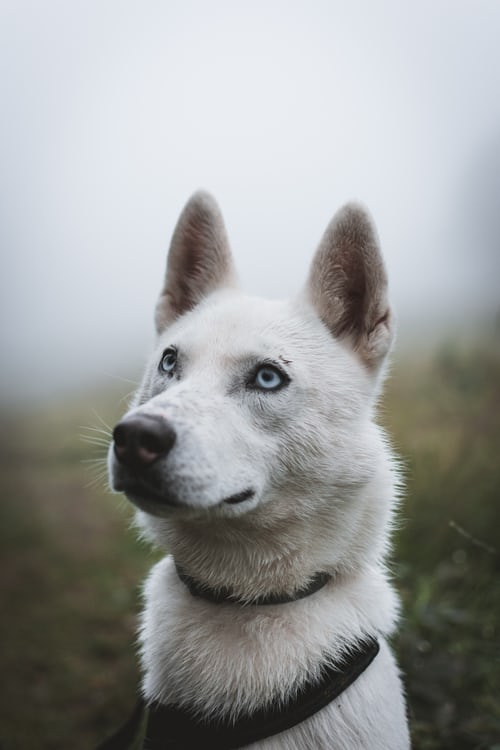husky: (74, 158, 419, 614)
